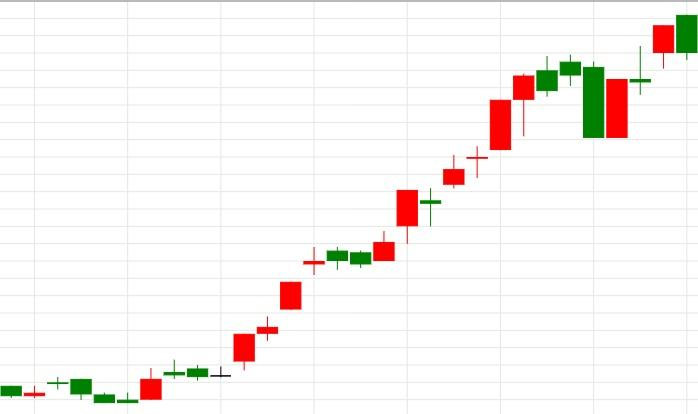hanging_man_fall: (420, 74, 535, 227)
